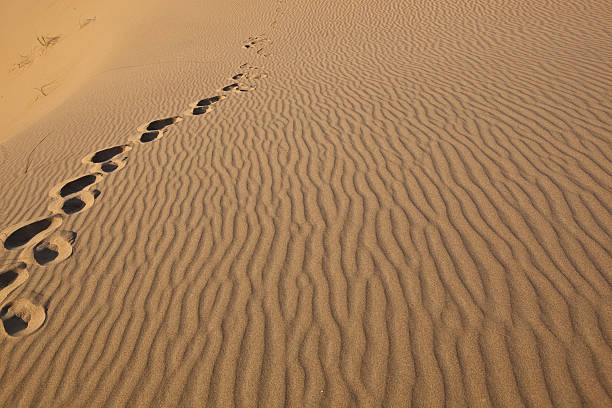animal_footprint: (0, 214, 62, 249), (20, 230, 76, 265), (0, 299, 45, 336), (130, 115, 182, 143), (49, 172, 102, 197), (49, 189, 100, 214), (0, 262, 28, 303), (82, 144, 131, 163), (183, 95, 225, 115), (138, 115, 182, 131), (90, 157, 126, 172), (130, 130, 164, 143), (232, 69, 267, 80), (242, 36, 269, 48), (221, 82, 253, 91)
